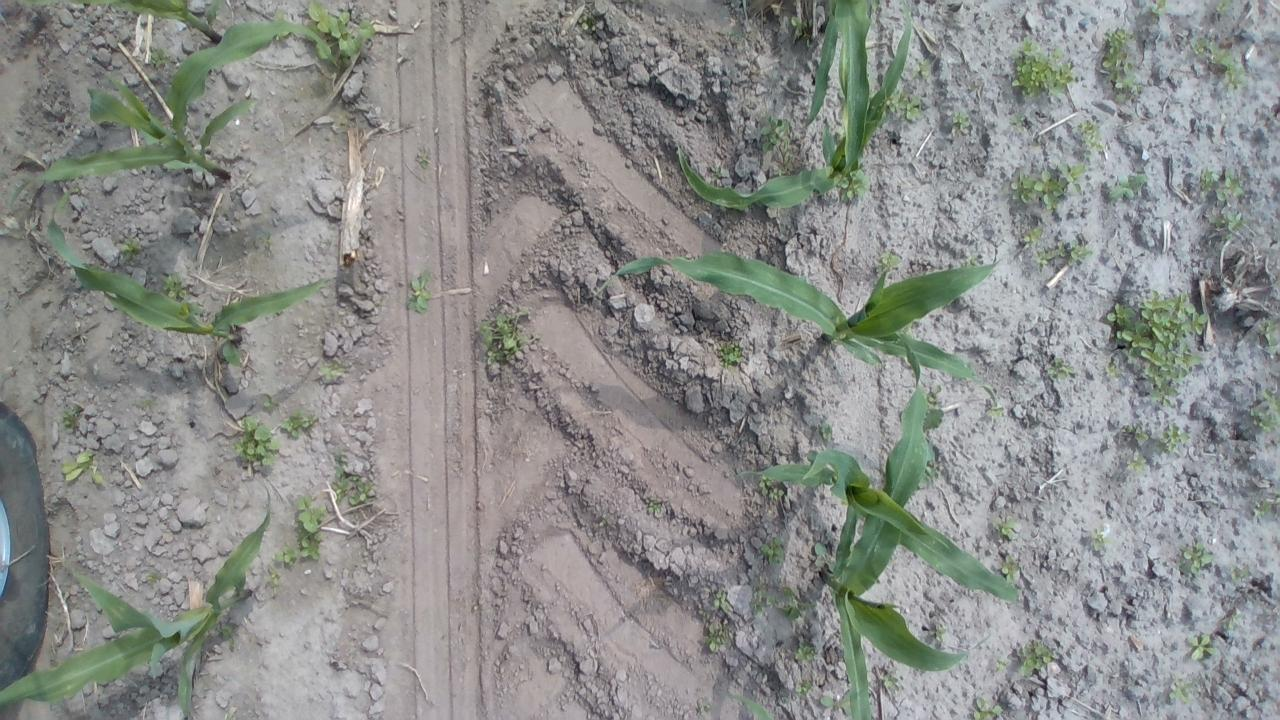Maize: (819, 327, 993, 720), (594, 250, 998, 406), (0, 485, 272, 716), (8, 17, 340, 206), (48, 187, 326, 368), (675, 3, 913, 208), (732, 449, 1019, 606), (805, 0, 872, 185), (19, 0, 221, 43), (724, 690, 772, 718)
Weeds: (1104, 288, 1207, 406), (1010, 36, 1074, 100), (1009, 162, 1087, 214), (310, 0, 376, 56), (478, 308, 542, 364), (1193, 33, 1246, 93), (1102, 26, 1142, 102), (230, 412, 280, 468), (293, 491, 327, 561), (1035, 240, 1093, 272), (59, 449, 104, 488), (1018, 635, 1054, 675), (1178, 538, 1216, 574), (1154, 422, 1192, 456), (1106, 172, 1148, 202), (1250, 388, 1280, 430), (330, 445, 350, 508), (780, 585, 815, 620), (406, 268, 430, 317), (838, 170, 871, 204), (760, 112, 790, 149), (278, 410, 314, 439), (1216, 168, 1244, 201), (1076, 120, 1104, 152), (702, 586, 734, 614), (704, 620, 730, 654), (771, 140, 794, 178), (1258, 318, 1280, 356), (716, 340, 743, 370), (820, 691, 852, 716), (1209, 209, 1245, 231), (1188, 633, 1216, 661), (318, 357, 349, 382), (348, 472, 370, 507), (58, 403, 82, 435), (1168, 671, 1192, 703), (972, 696, 1004, 719), (115, 237, 142, 263), (1048, 355, 1074, 382), (271, 541, 299, 566), (761, 536, 784, 566), (263, 562, 283, 596), (748, 588, 774, 614), (812, 540, 833, 570), (162, 274, 188, 298), (993, 514, 1018, 538), (1219, 604, 1242, 630), (1092, 524, 1112, 553), (1124, 423, 1149, 446), (949, 110, 970, 136), (1001, 554, 1020, 582), (220, 622, 237, 652), (899, 98, 920, 122), (886, 90, 908, 112), (1126, 452, 1148, 474), (1228, 560, 1250, 582), (414, 145, 434, 169), (794, 642, 817, 662), (876, 252, 901, 270), (1252, 500, 1274, 519), (151, 48, 169, 71), (912, 57, 931, 78), (790, 15, 807, 38), (1200, 164, 1212, 196), (928, 623, 948, 642), (795, 680, 813, 699), (694, 697, 712, 716), (1024, 225, 1044, 242), (882, 672, 899, 692), (1151, 0, 1169, 16), (1009, 114, 1024, 133), (928, 385, 943, 404), (1104, 365, 1122, 380), (1213, 1, 1233, 14), (258, 230, 272, 248), (132, 398, 152, 410), (261, 397, 277, 412), (820, 422, 834, 439), (144, 571, 156, 590), (645, 498, 659, 514), (759, 476, 770, 496), (709, 165, 722, 180), (988, 407, 1004, 419), (926, 466, 940, 479), (995, 659, 1008, 672), (770, 488, 784, 500), (724, 30, 739, 41), (964, 254, 979, 264), (597, 514, 609, 526), (578, 16, 588, 30), (698, 609, 707, 616), (1226, 232, 1232, 240)
